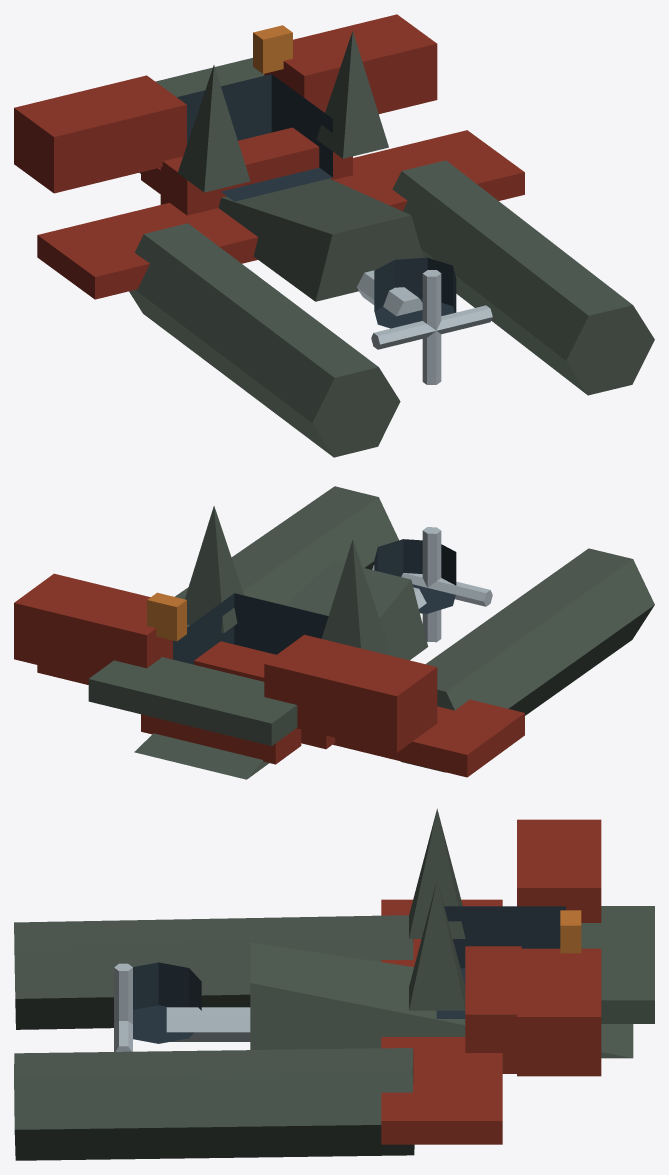
File: aerial-battleship.obj
The picture shows the model from 3 angles, top to bottom: view 1: azimuth 30°, elevation 25°; view 2: azimuth 150°, elevation 25°; view 3: azimuth 270°, elevation 25°; orthographic projection. The views are drawn at different scales.
Parts seen in each view (by area): view 1: air; view 2: air; view 3: air.
Part boxes in pixels (x1,y1,x2,y2): air: [14, 14, 654, 457]; air: [14, 486, 654, 779]; air: [14, 808, 654, 1160].
Size of the model in its own units: 2.23 by 1.13 by 2.73.
